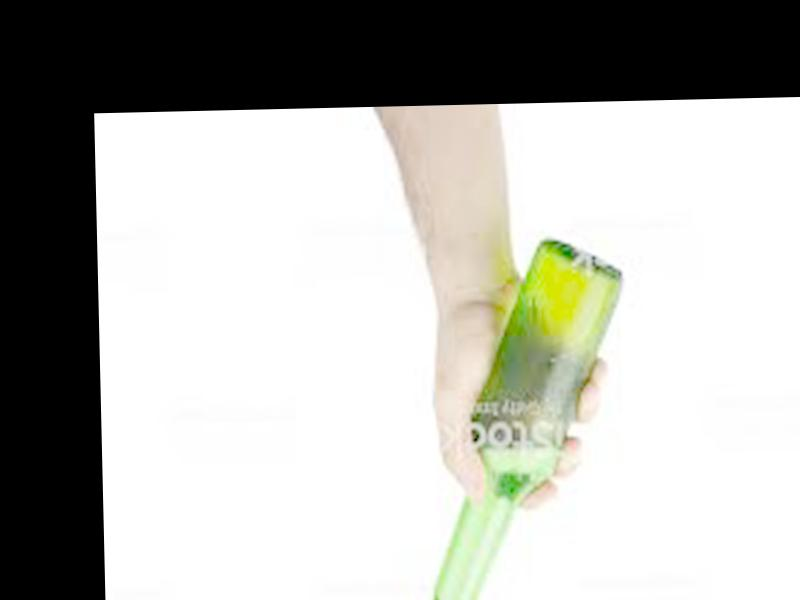Beer: (413, 241, 632, 600)
